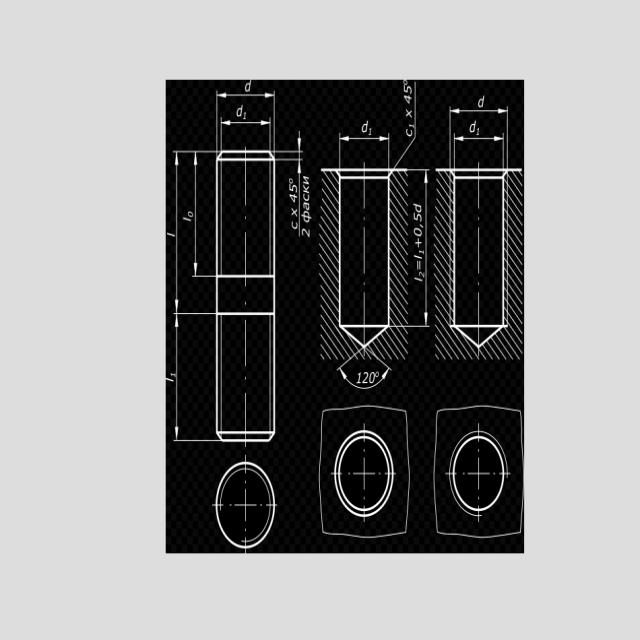marking_line: (172, 149, 215, 316), (172, 313, 215, 442), (449, 106, 509, 167), (215, 90, 274, 151), (409, 168, 431, 329), (192, 149, 215, 279), (337, 347, 391, 391), (392, 81, 418, 168), (277, 156, 304, 237), (338, 132, 390, 168), (453, 131, 505, 167), (219, 116, 271, 150), (276, 129, 306, 154)
numeric: (412, 212, 422, 223), (403, 93, 412, 104), (362, 370, 369, 384), (289, 184, 298, 194), (403, 85, 413, 94), (413, 227, 423, 236), (302, 227, 310, 238), (356, 371, 362, 384), (369, 371, 375, 384), (290, 193, 297, 203), (418, 271, 425, 278), (243, 110, 247, 121), (418, 249, 425, 255), (476, 127, 480, 136), (369, 128, 372, 136), (409, 124, 414, 128)
special_symbol: (405, 107, 413, 119), (414, 238, 422, 248), (288, 176, 294, 184), (375, 371, 379, 378), (404, 80, 408, 85)
